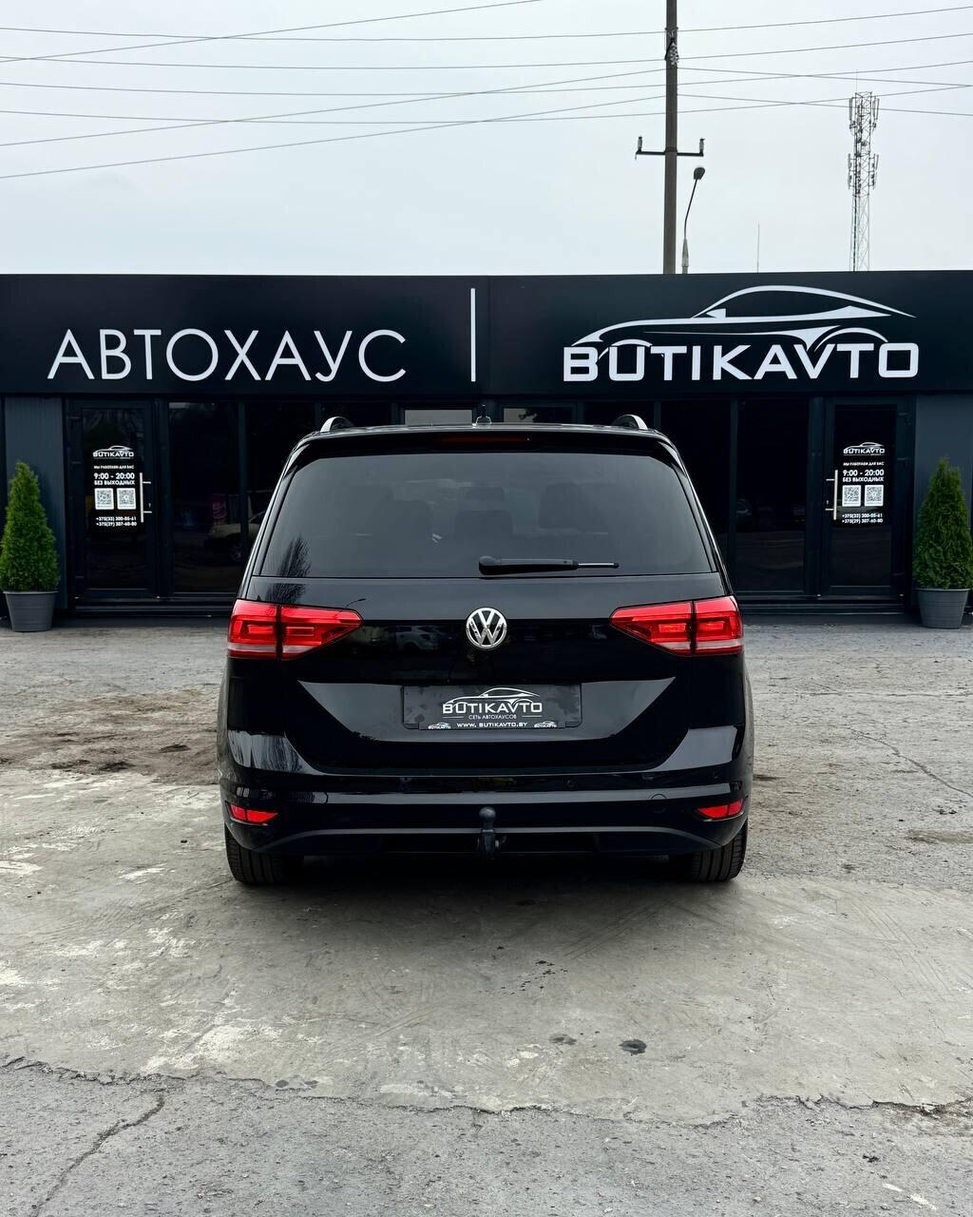Touran_2015: (209, 410, 763, 903)
